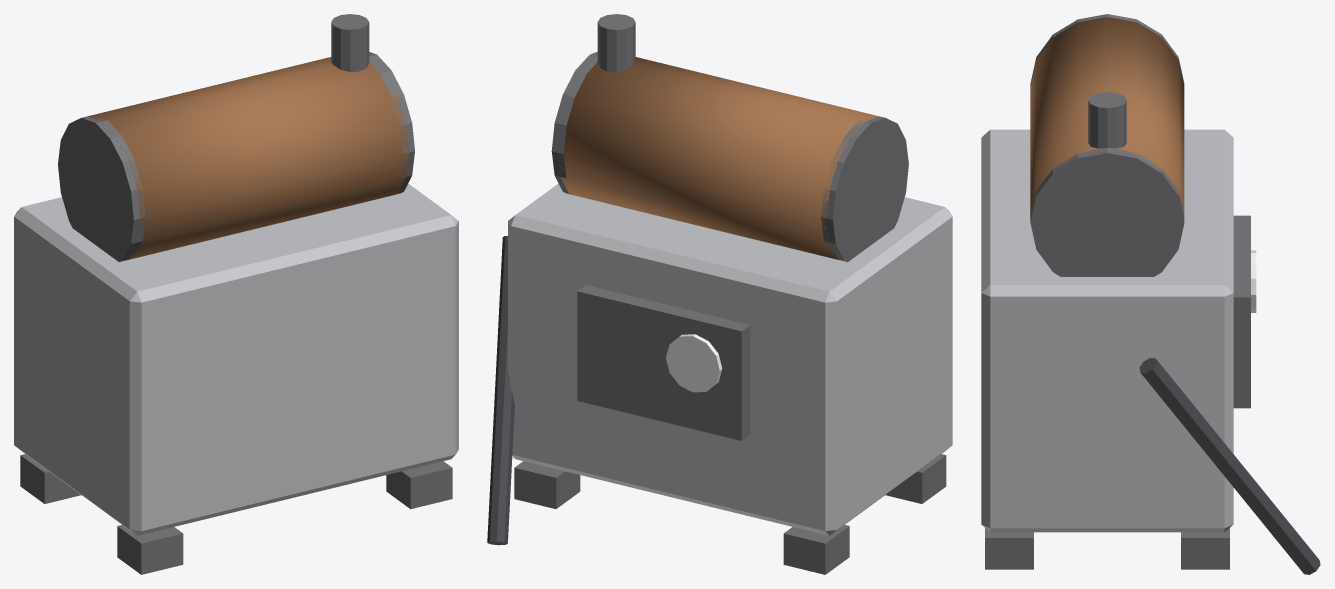
File: LL_Generator.fbx
3 renders of one model, left to right at view 1: azimuth 30°, elevation 25°; view 2: azimuth 150°, elevation 25°; view 3: azimuth 270°, elevation 25°, orthographic.
Parts seen in each view (by area): view 1: LL_Generator_Body, LL_Generator_Tank, LL_Gen_TankCap_L, LL_Gen_Foot_-0.5_-0.3, LL_Gen_Foot_0.5_-0.3, LL_Generator_Exhaust, LL_Gen_TankCap_R, LL_Gen_Foot_-0.5_0.3; view 2: LL_Generator_Body, LL_Generator_Tank, LL_Generator_Panel, LL_Gen_TankCap_L, LL_Generator_Cable, LL_Gen_Foot_-0.5_0.3, LL_Generator_Gauge, LL_Gen_Foot_0.5_0.3, LL_Generator_Exhaust, LL_Gen_TankCap_R, LL_Gen_Foot_-0.5_-0.3; view 3: LL_Generator_Body, LL_Generator_Tank, LL_Gen_TankCap_R, LL_Generator_Cable, LL_Generator_Panel, LL_Generator_Exhaust, LL_Gen_Foot_0.5_0.3, LL_Gen_Foot_0.5_-0.3, LL_Gen_TankCap_L.
Part boxes in pixels (x1,y1,x2,y2): LL_Generator_Body: (14, 183, 458, 535); LL_Generator_Tank: (88, 57, 408, 260); LL_Gen_TankCap_L: (58, 116, 145, 261); LL_Gen_Foot_-0.5_-0.3: (117, 525, 183, 574); LL_Gen_Foot_0.5_-0.3: (386, 461, 452, 509); LL_Generator_Exhaust: (331, 14, 369, 71); LL_Gen_TankCap_R: (369, 52, 414, 194); LL_Gen_Foot_-0.5_0.3: (20, 454, 81, 503); LL_Generator_Body: (508, 183, 952, 535); LL_Generator_Tank: (558, 57, 878, 259); LL_Generator_Panel: (577, 285, 750, 440); LL_Gen_TankCap_L: (821, 116, 908, 262); LL_Generator_Cable: (487, 236, 514, 545); LL_Gen_Foot_-0.5_0.3: (783, 525, 849, 574); LL_Generator_Gauge: (666, 334, 722, 392); LL_Gen_Foot_0.5_0.3: (514, 461, 580, 508); LL_Generator_Exhaust: (597, 14, 635, 71); LL_Gen_TankCap_R: (551, 52, 597, 194); LL_Gen_Foot_-0.5_-0.3: (885, 454, 946, 503); LL_Generator_Body: (981, 129, 1233, 532); LL_Generator_Tank: (1030, 17, 1184, 216); LL_Gen_TankCap_R: (1030, 148, 1184, 276); LL_Generator_Cable: (1139, 357, 1320, 574); LL_Generator_Panel: (1233, 215, 1250, 408); LL_Generator_Exhaust: (1088, 92, 1126, 148); LL_Gen_Foot_0.5_0.3: (1181, 528, 1229, 569); LL_Gen_Foot_0.5_-0.3: (985, 528, 1033, 569); LL_Gen_TankCap_L: (1030, 14, 1184, 86).
Size of the model in its own units: 1.24 by 1.46 by 0.9686.
